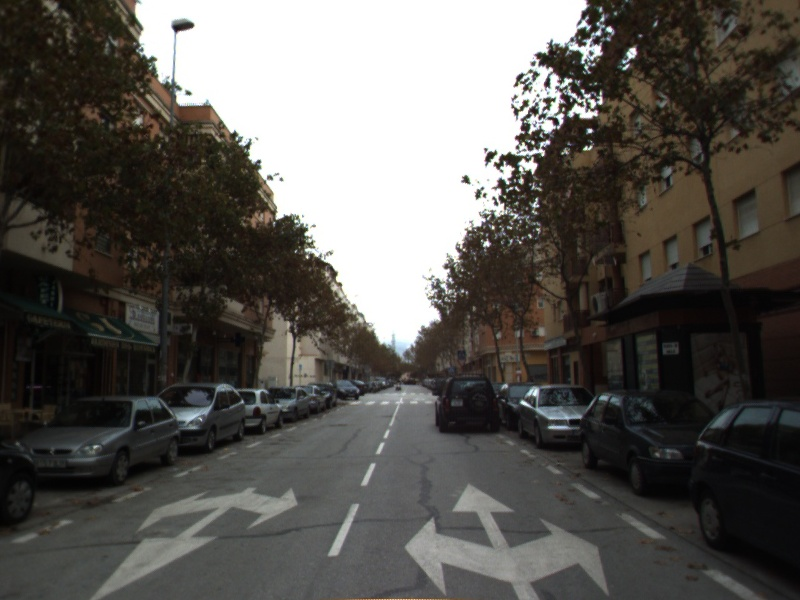STRAIGHT_LEFT_RIGHT: (401, 479, 611, 600)
